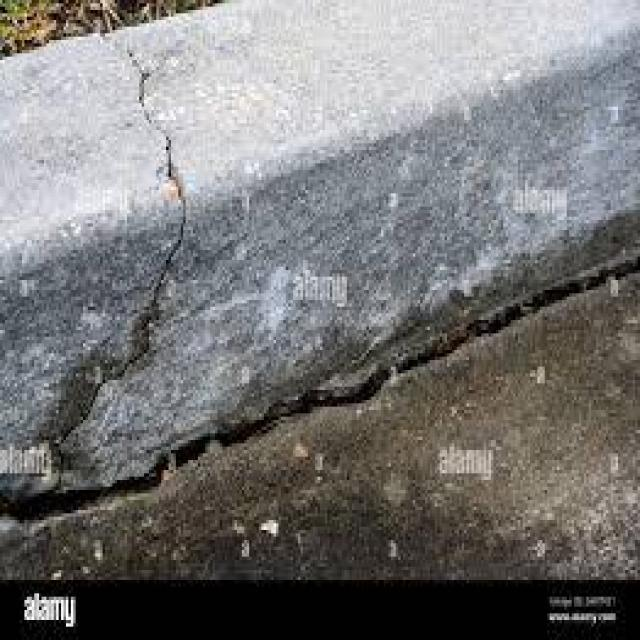curb: (204, 14, 640, 386), (1, 64, 340, 534)
